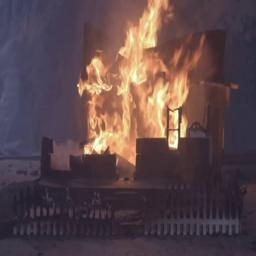fire: (61, 0, 210, 159)
